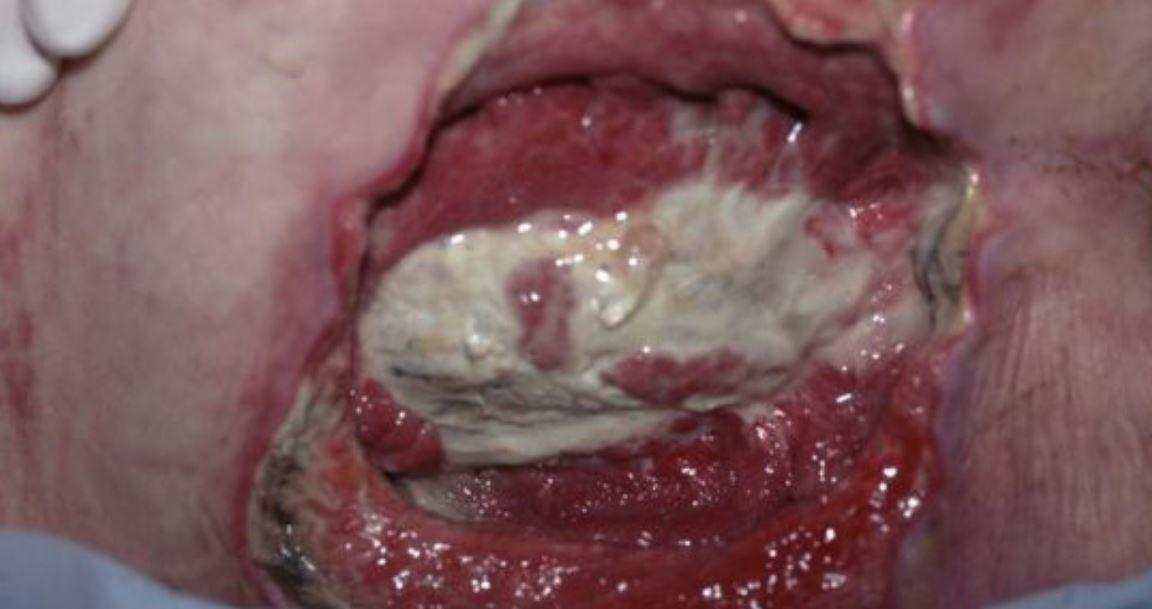Stage4: (213, 3, 1081, 609)
